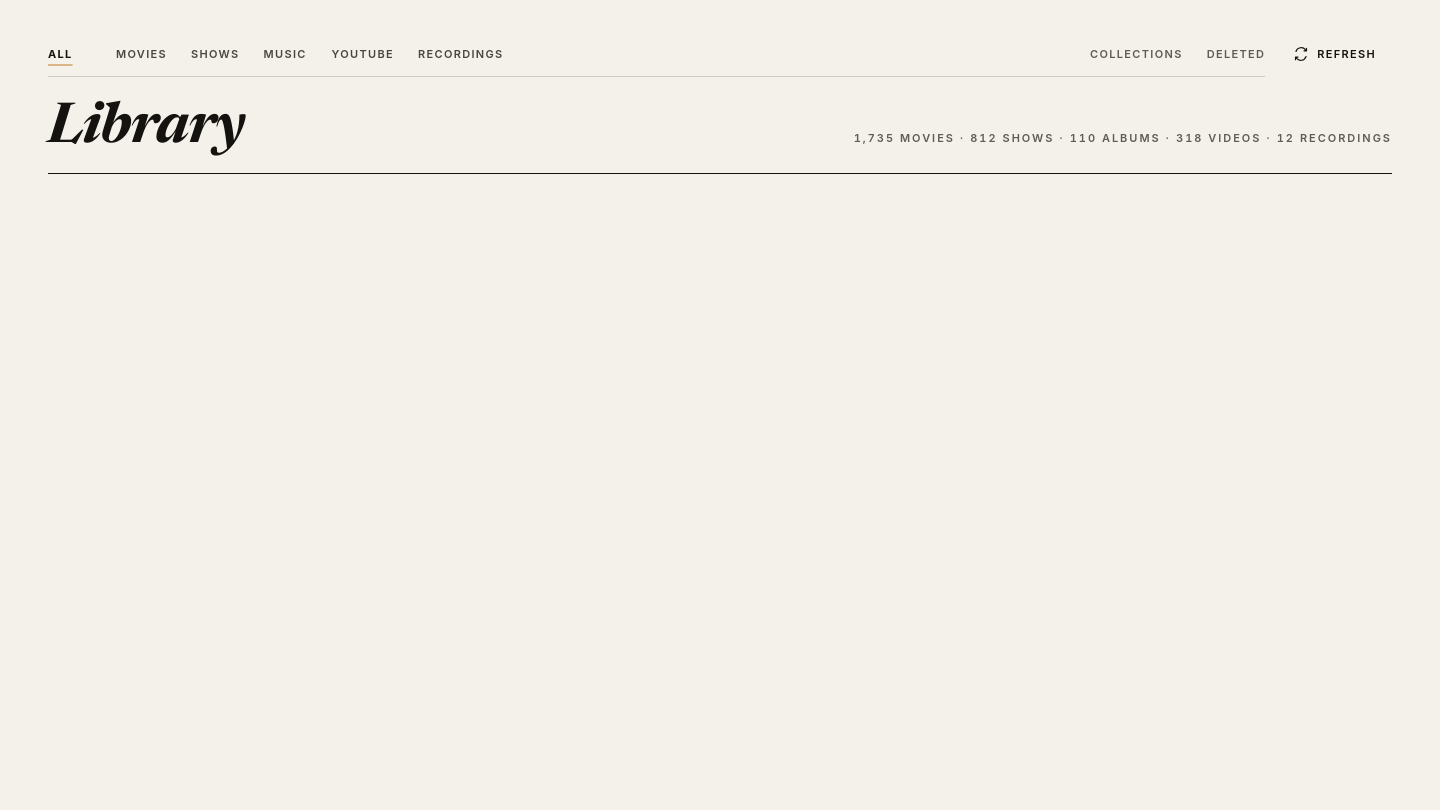
Library lenses › reports a scan failure and makes Refresh available for a retry
This screenshot has width=1440, height=810.
Click the button "Refresh" at (1335, 54), box [1277,32,1392,76]
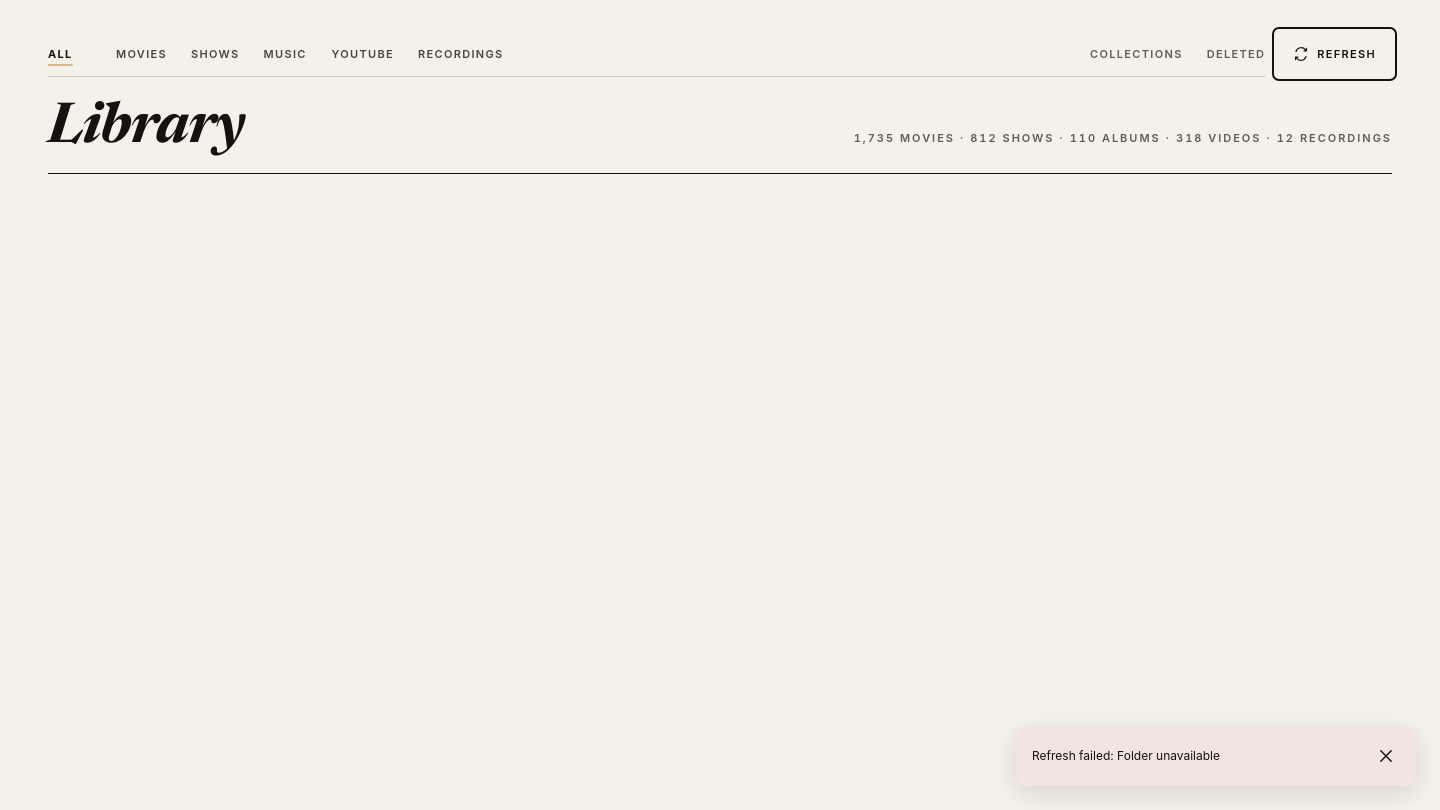
Expected: the message reads "Refresh failed: Folder unavailable", [1032,748,1220,763]
Click the button "Refresh" at (1335, 54), box [1277,32,1392,76]
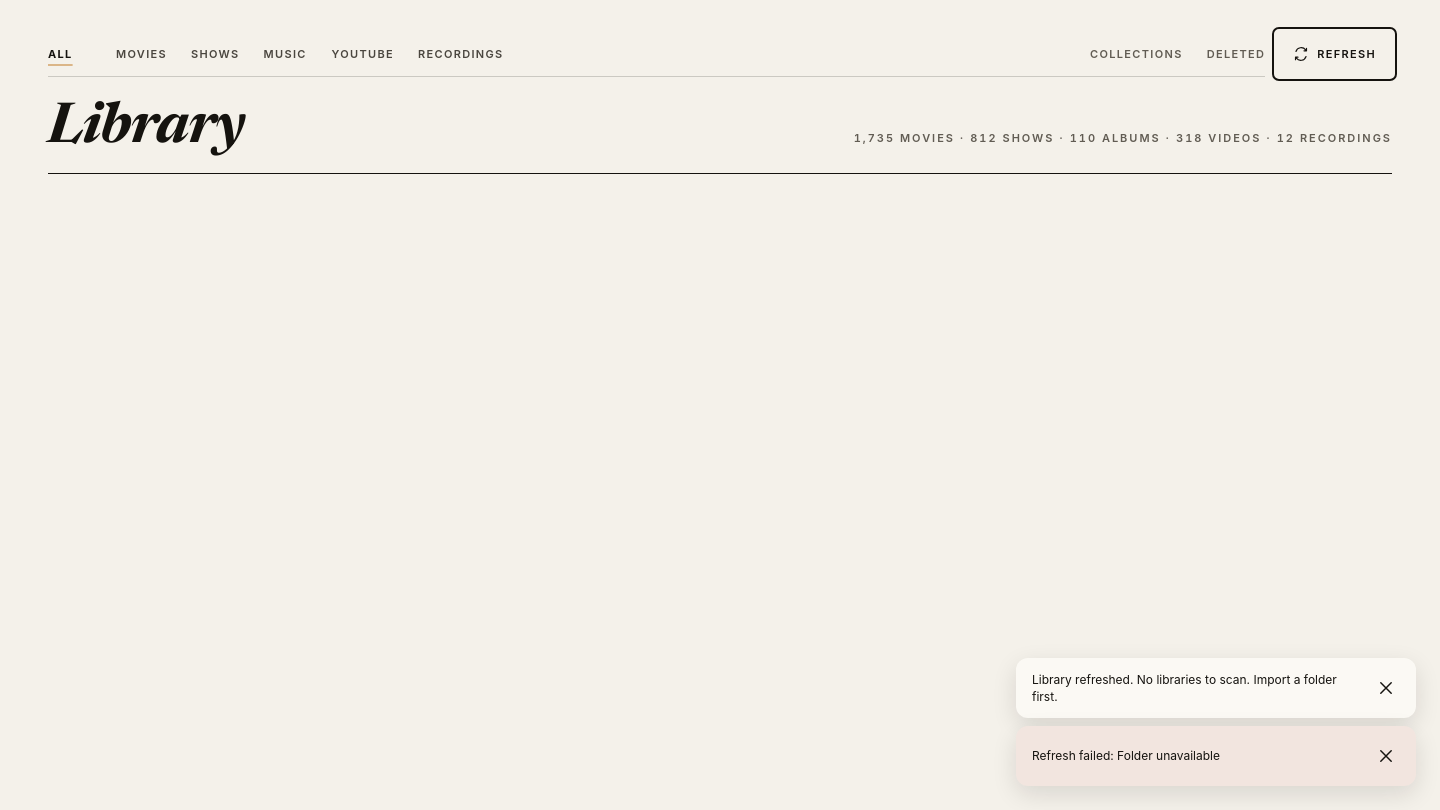
Expected: the text "Library refreshed. No libraries to scan. Import a folder first." is shown, [1032,671,1356,705]
